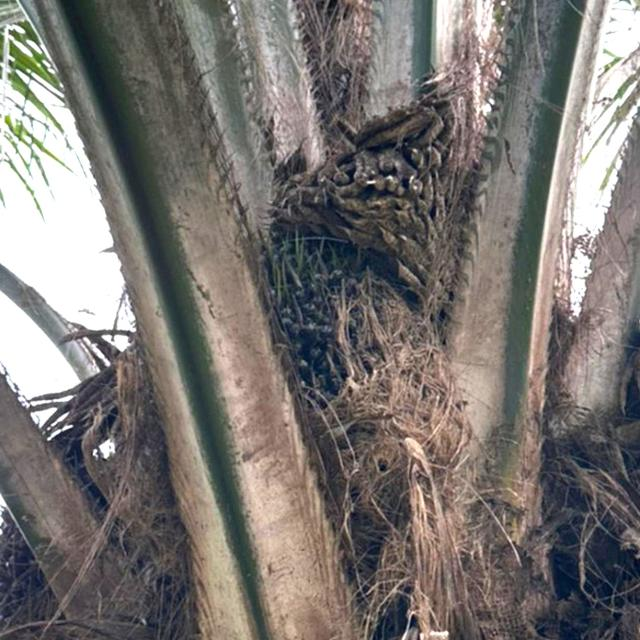unripe: (246, 223, 446, 440)
